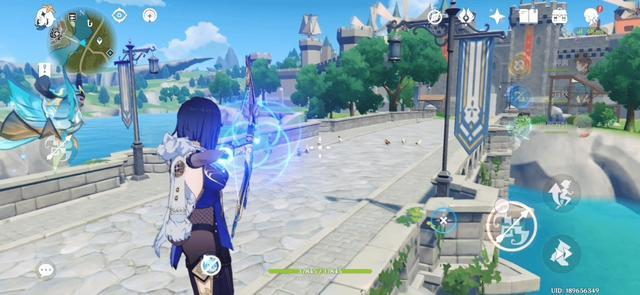夜兰: (143, 100, 241, 293)
